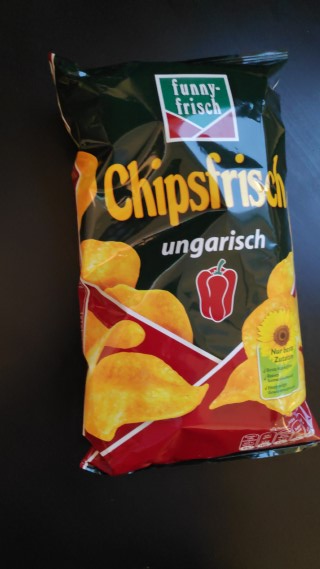chipsfrisch: (46, 51, 319, 478)
